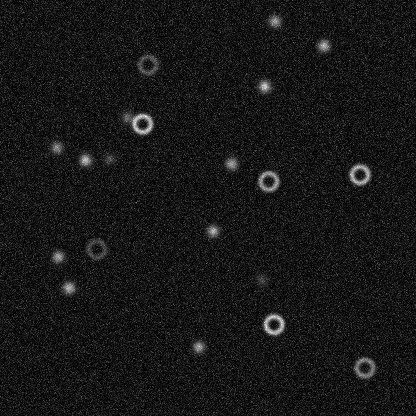Ring: (256, 169, 280, 193), (130, 111, 154, 135), (261, 312, 285, 336), (347, 162, 371, 186), (352, 355, 376, 379), (84, 237, 108, 261), (135, 52, 159, 76)
Spot: (253, 271, 269, 287), (256, 78, 272, 94), (49, 248, 65, 264), (101, 150, 117, 166), (77, 151, 93, 167), (60, 279, 76, 295), (48, 139, 64, 155), (119, 109, 135, 125), (223, 155, 239, 171), (315, 37, 331, 53), (204, 222, 220, 238), (266, 13, 282, 29), (190, 338, 206, 354)
